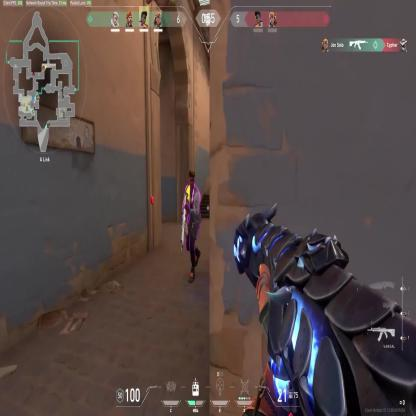enemy: (178, 170, 202, 282)
enemy_head: (188, 171, 196, 190)
